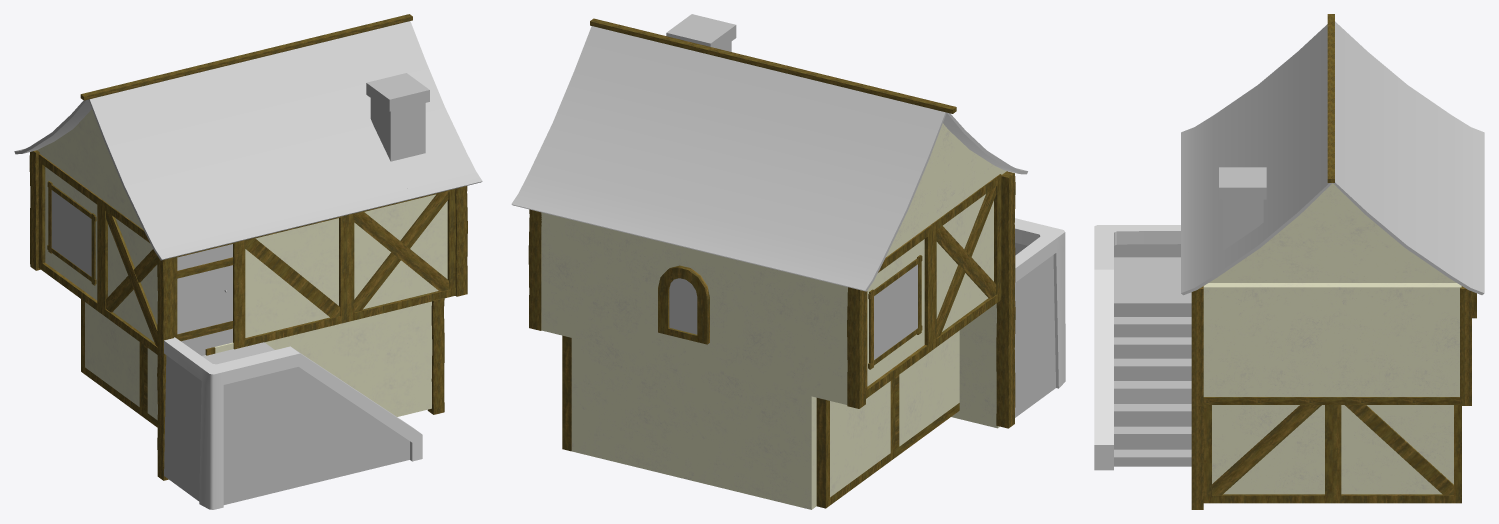
The model's file is House three 1.fbx.
3 views of the same model, side by side, from view 1: azimuth 30°, elevation 25°; view 2: azimuth 150°, elevation 25°; view 3: azimuth 270°, elevation 25° (orthographic). The views are drawn at different scales.
Parts seen in each view (by area): view 1: Stairs_With_Stone2, Roof17, Roof18, Wall_Cross_Left2, Wall_Criss_Cross2, Wall_Plane9, Roof_Half3, Window_Plane2, Wall_Criss_Cross3, Door_Open_Door6, Wall_Cross_Left4, Chimney3 (+12 smaller); view 2: Roof17, Roof18, Wall_Plane_Long5, Roof_Half3, Wall_Plane7, Wall_Plane6, Stairs_With_Stone2, Wall_Criss_Cross3, Wall_Plane_Half5, Window_Plane2, Wall_Cross_Left4, Wall_Cross_Right3 (+12 smaller); view 3: Wall_Plane_Long6, Stairs_With_Stone2, Roof17, Roof18, Wall_Cross_Right2, Wall_Cross_Left3, Roof_End12, Roof_Half3, Chimney3, Wood_Plank_Long2, Wood_Pillar_Thick28, Wood_Pillar_Thick29 (+4 smaller).
Boxes of the visible parts, <box> form: Stairs_With_Stone2: <box>164,337,422,509</box>; Roof17: <box>14,68,287,260</box>; Roof18: <box>216,38,413,229</box>; Wall_Cross_Left2: <box>238,215,346,348</box>; Wall_Criss_Cross2: <box>347,188,455,321</box>; Wall_Plane9: <box>323,301,432,416</box>; Roof_Half3: <box>342,21,482,198</box>; Window_Plane2: <box>38,154,101,313</box>; Wall_Criss_Cross3: <box>101,199,157,354</box>; Door_Open_Door6: <box>177,244,233,355</box>; Wall_Cross_Left4: <box>81,299,143,417</box>; Chimney3: <box>366,73,429,161</box>; Roof17: <box>726,78,1027,291</box>; Roof18: <box>587,44,806,257</box>; Wall_Plane_Long5: <box>613,230,847,404</box>; Roof_Half3: <box>511,26,667,223</box>; Wall_Plane7: <box>691,367,816,509</box>; Wall_Plane6: <box>571,338,691,480</box>; Stairs_With_Stone2: <box>1014,218,1065,417</box>; Wall_Criss_Cross3: <box>931,174,1001,350</box>; Wall_Plane_Half5: <box>541,212,613,347</box>; Window_Plane2: <box>865,224,931,398</box>; Wall_Cross_Left4: <box>816,378,895,508</box>; Wall_Cross_Right3: <box>895,330,959,457</box>; Wall_Plane_Long6: <box>1203,283,1461,396</box>; Stairs_With_Stone2: <box>1094,225,1191,470</box>; Roof17: <box>1181,21,1484,195</box>; Roof18: <box>1181,85,1484,258</box>; Wall_Cross_Right2: <box>1203,405,1332,503</box>; Wall_Cross_Left3: <box>1332,405,1461,503</box>; Roof_End12: <box>1209,183,1456,282</box>; Roof_Half3: <box>1181,148,1484,295</box>; Chimney3: <box>1219,167,1266,251</box>; Wood_Plank_Long2: <box>1203,397,1459,404</box>; Wood_Pillar_Thick28: <box>1191,286,1203,405</box>; Wood_Pillar_Thick29: <box>1460,286,1471,405</box>.
Size of the model in its own units: 945 by 936 by 945.
